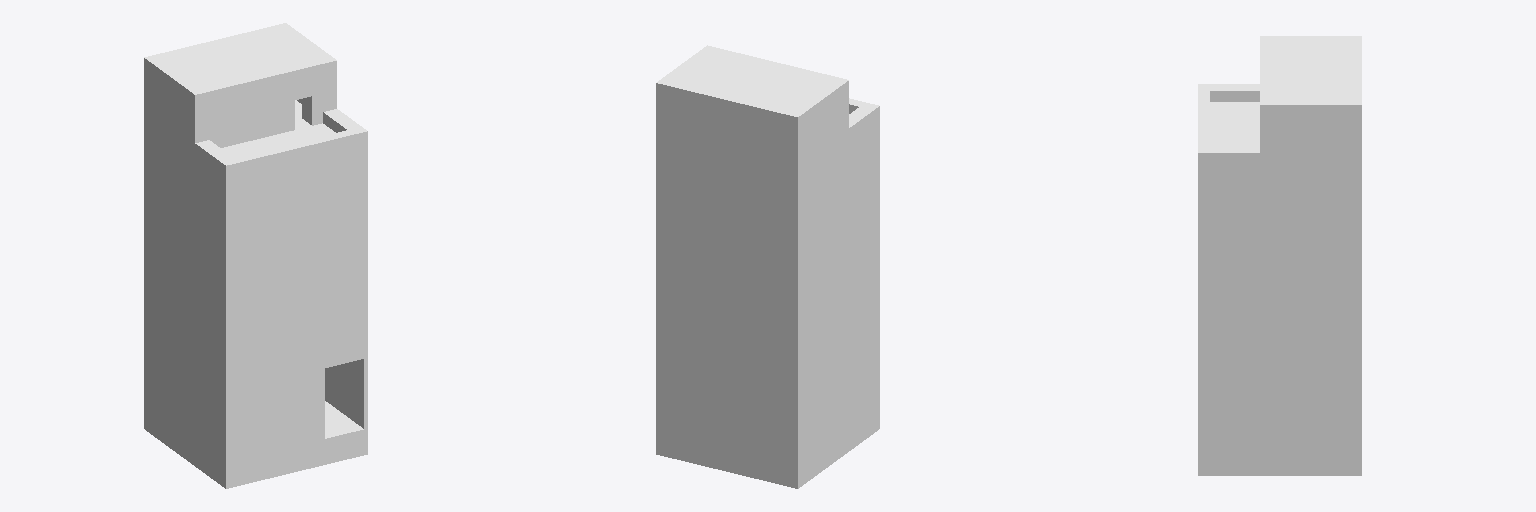
Rendered from dpto.obj.
The picture shows the model from 3 angles: view 1: azimuth 30°, elevation 25°; view 2: azimuth 150°, elevation 25°; view 3: azimuth 270°, elevation 25°; orthographic projection.
Visible parts, largest first — view 1: object 1; view 2: object 1; view 3: object 1.
Part boxes in pixels (bbox=[...]): object 1: bbox=[144, 23, 367, 488]; object 1: bbox=[656, 45, 879, 488]; object 1: bbox=[1198, 36, 1361, 475].
Bounding box in the file's own units: 4 × 10 × 4.